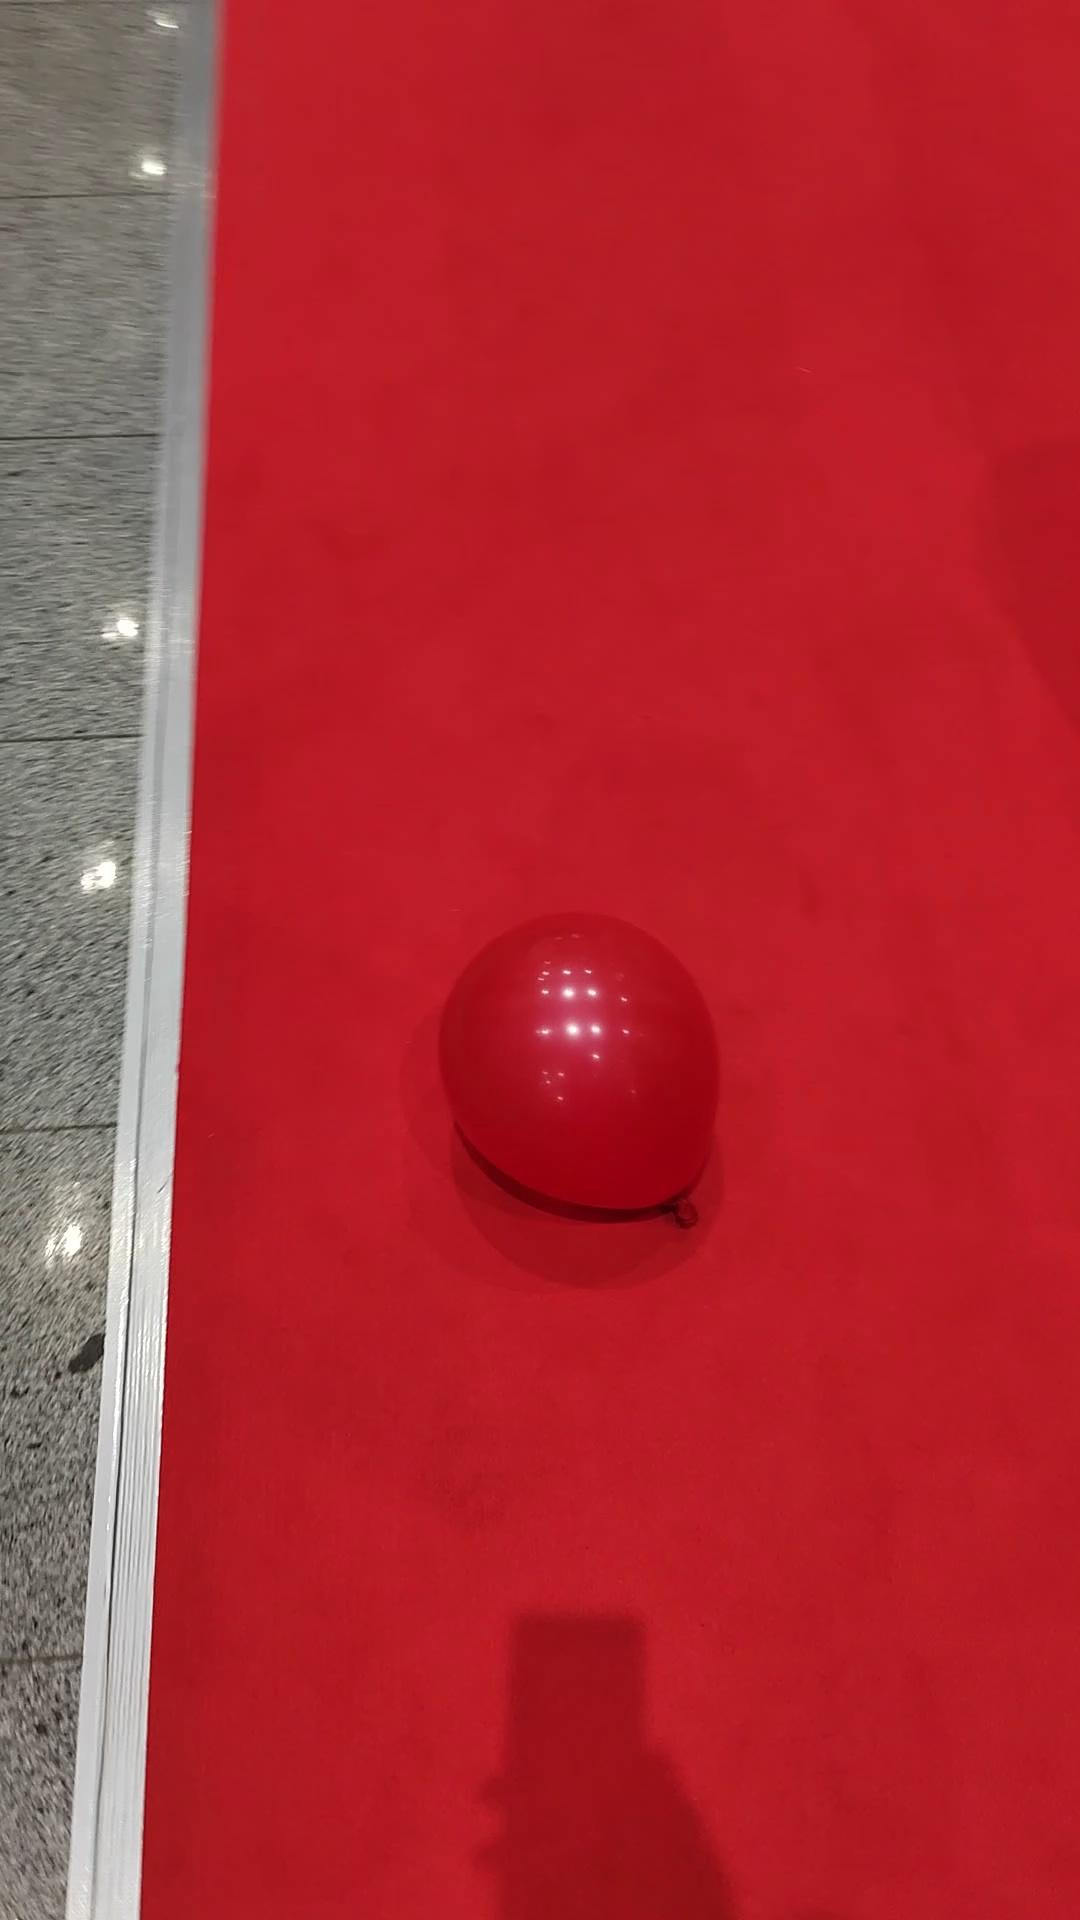red: (440, 911, 720, 1219)
